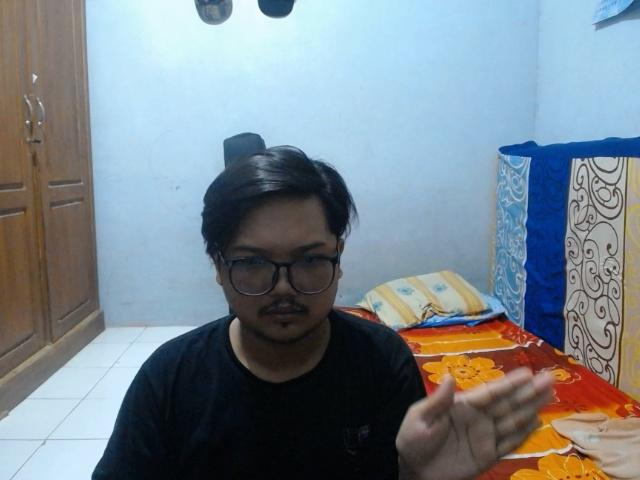Release: (389, 361, 562, 480)
